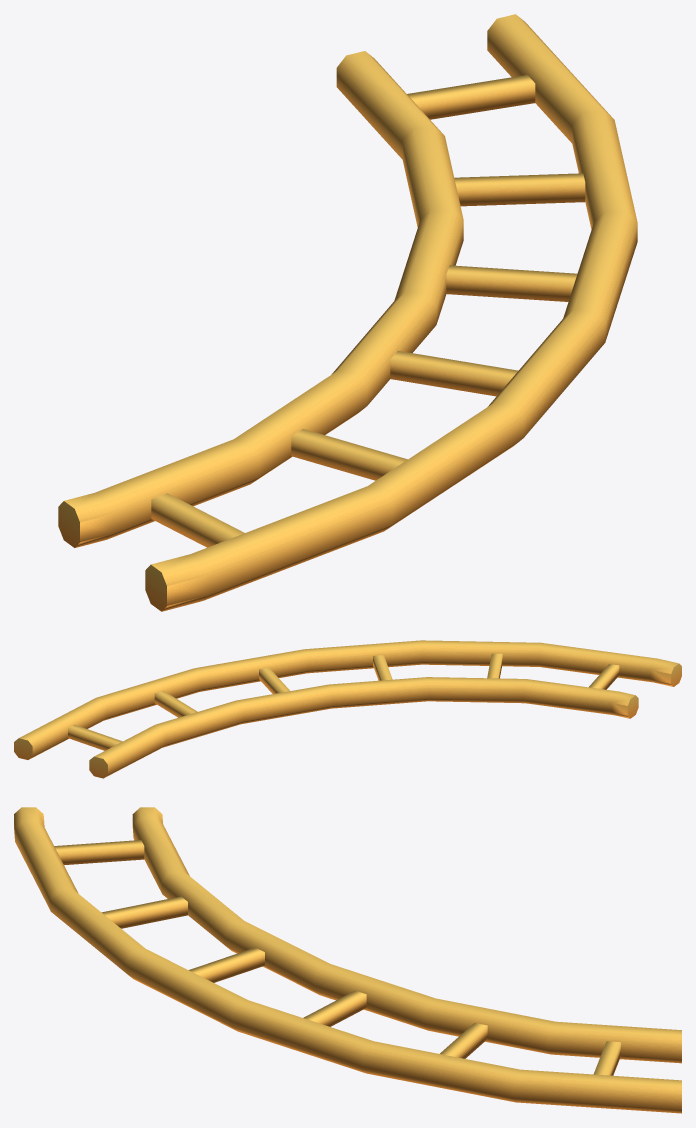
Rendered from coaster-mouse-corner-small.glb.
The picture shows the model from 3 angles, top to bottom: view 1: azimuth 30°, elevation 25°; view 2: azimuth 150°, elevation 25°; view 3: azimuth 270°, elevation 25°; orthographic projection. The views are drawn at different scales.
Visible parts, largest first — view 1: coaster-mouse-corner-small; view 2: coaster-mouse-corner-small; view 3: coaster-mouse-corner-small.
Part boxes in pixels (x1,y1,x2,y2): coaster-mouse-corner-small: (58, 14, 637, 611); coaster-mouse-corner-small: (14, 640, 681, 778); coaster-mouse-corner-small: (14, 807, 681, 1113).
Bounding box in the file's own units: 6.75 × 0.3 × 6.75.
Materials: 1 (1 with a texture image).
